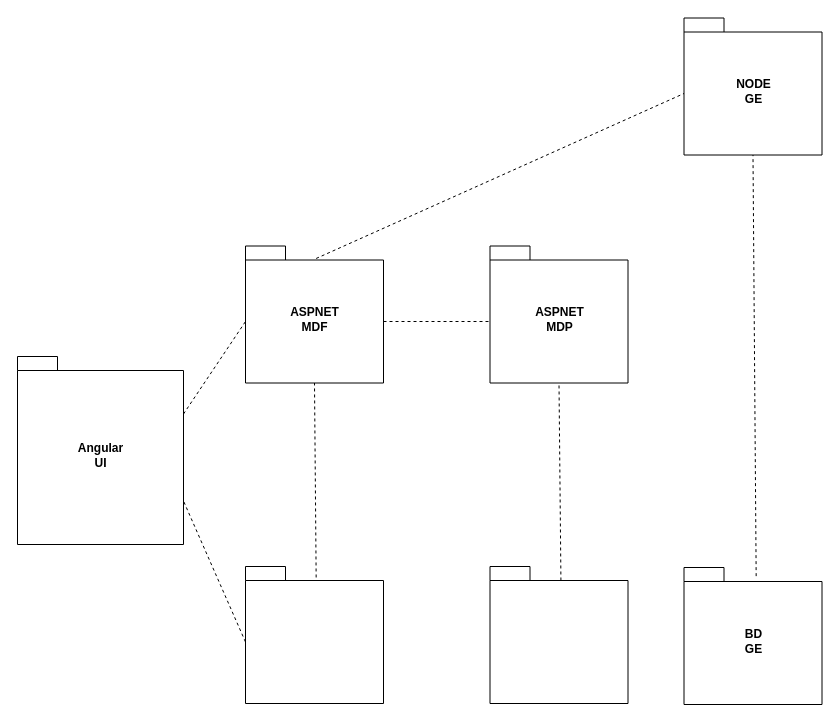
This 840x722 diagram has some shape labels left out. The shapes that lost their labels are listed below. From the top down, each one's centre as x and y in pixels, then its label:
pixel 314 635: BD MDF
pixel 558 635: BD MDP
